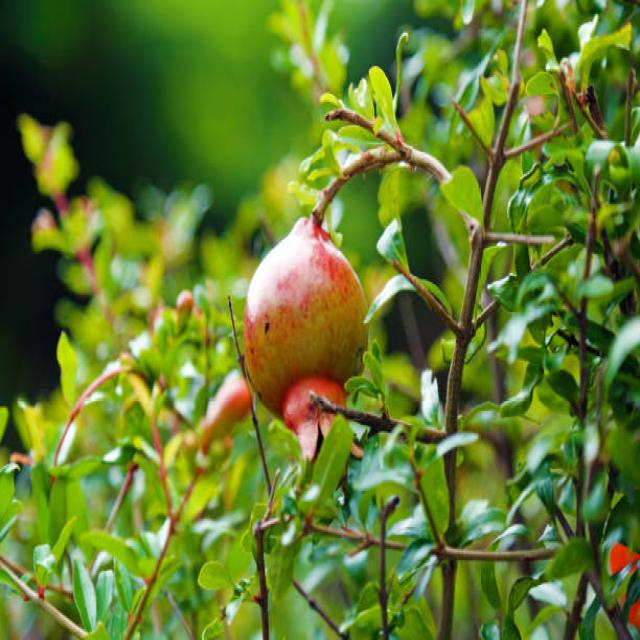Pomegranate: (245, 215, 374, 472)
